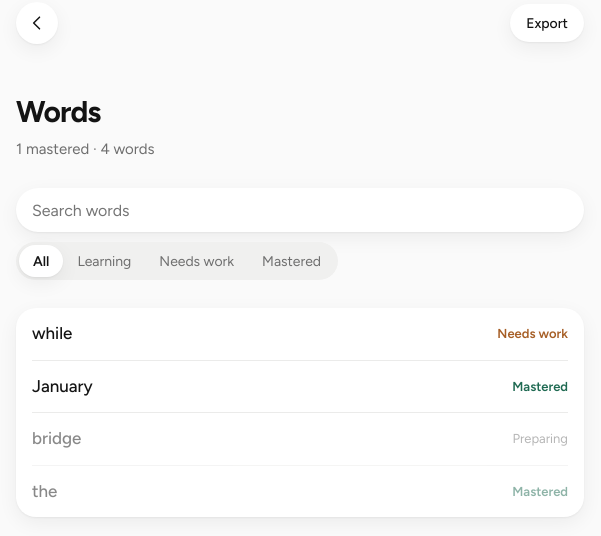
Scenario: Words › filters by search and status
Type "jan" into the search field labelled "Search words" at (300, 210), box [16,188,584,232]
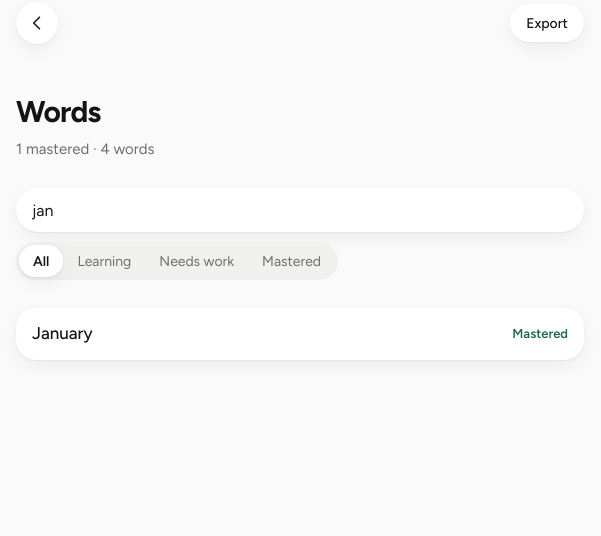
Expected: the button "while" is gone
Clear the search field named "Search words" at (300, 210), box [16,188,584,232]
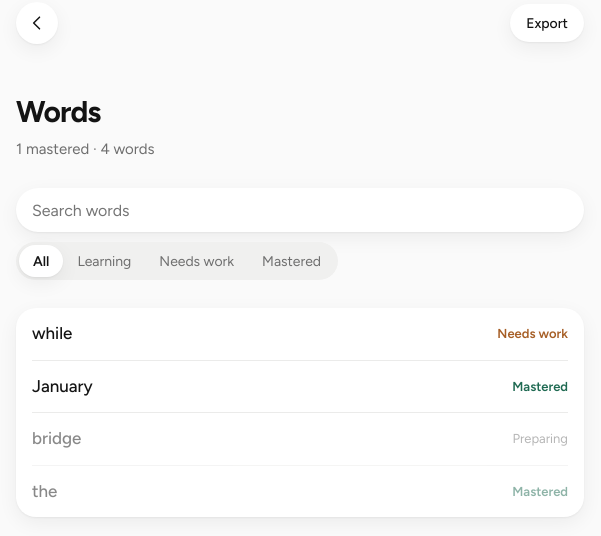
Click the button "Needs work" at (197, 261), box [145,245,248,277]
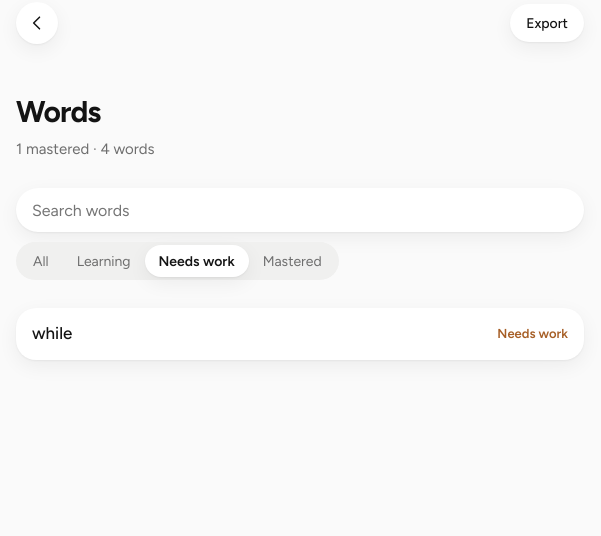
Expected: the text "while" is shown, [32,323,72,343]
Expected: the button "January" is gone
